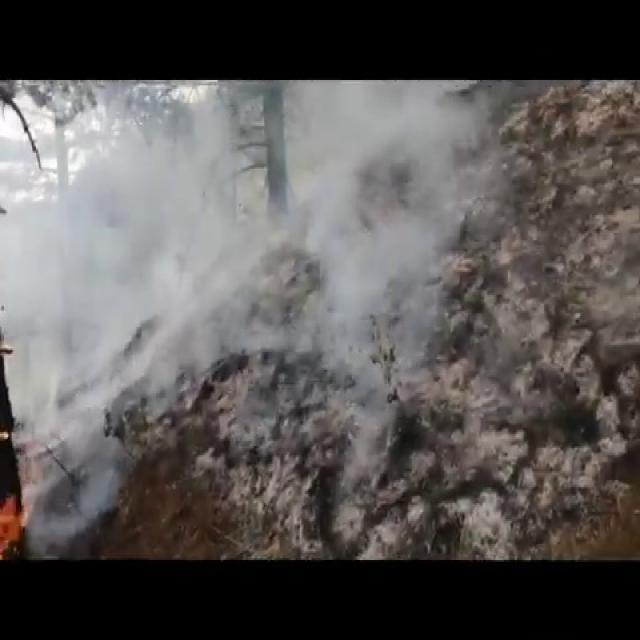Smoke: (1, 80, 503, 484)
